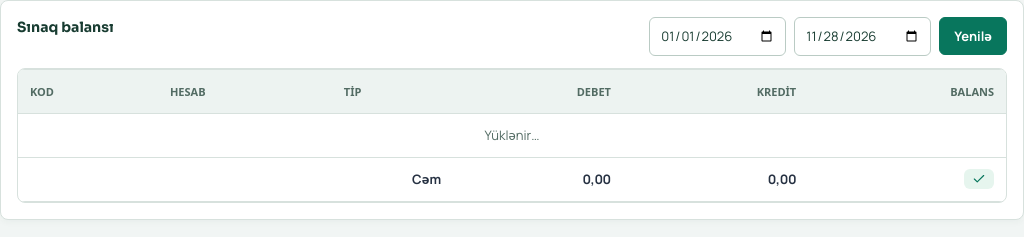
Test case: ignores late trial balance results after a date change
Type "2025-01-01" into the 1st date field.
click(718, 36); type("2025-01-01")  # box left=649, top=17, right=786, bottom=56
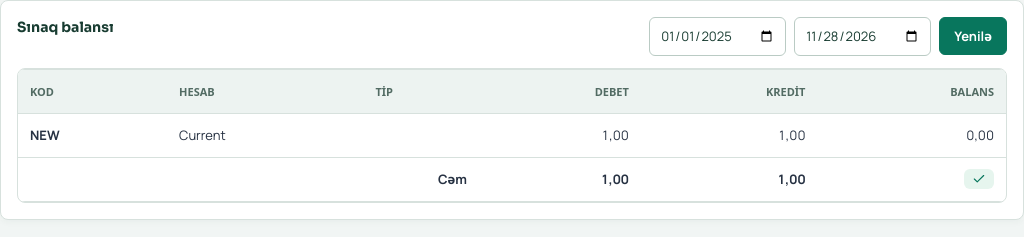
Expected: the text "NEW" is shown, left=30, top=126, right=60, bottom=144
